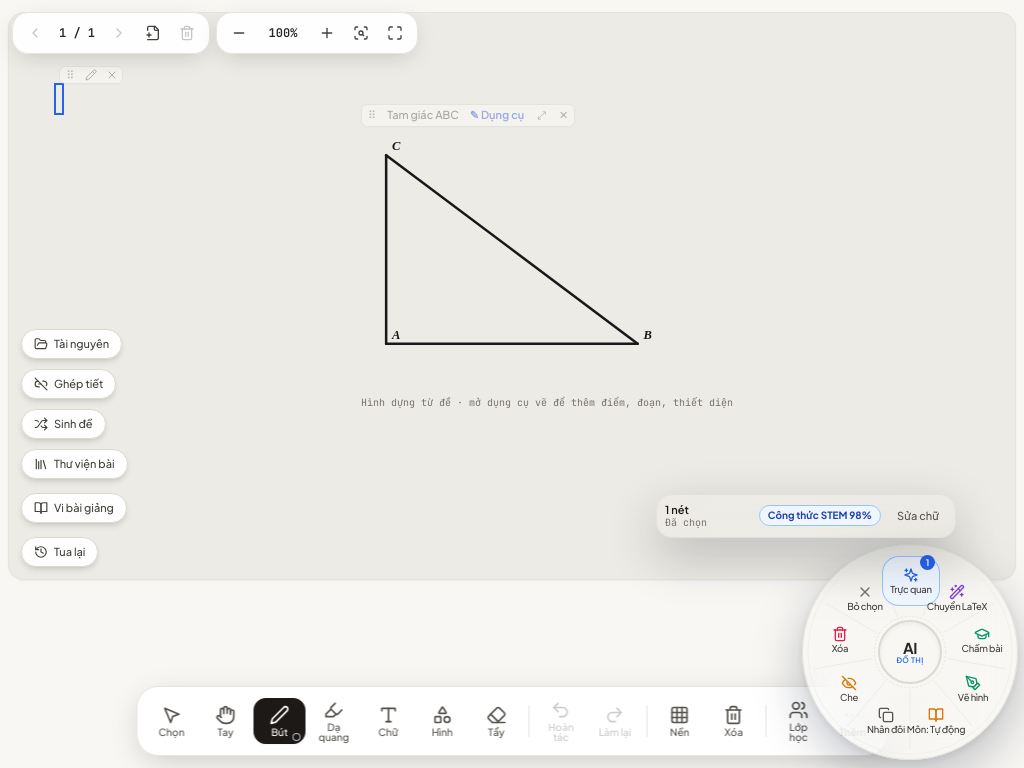
viết yêu cầu lên bảng, khoanh, bấm Vẽ hình: thêm vào hình đang có › chữ không hiểu thì báo và không đổi hình
This screenshot has width=1024, height=768.
Click the button with test id "ai-fab-draw".
click(973, 689)  # box [945,665,1001,713]
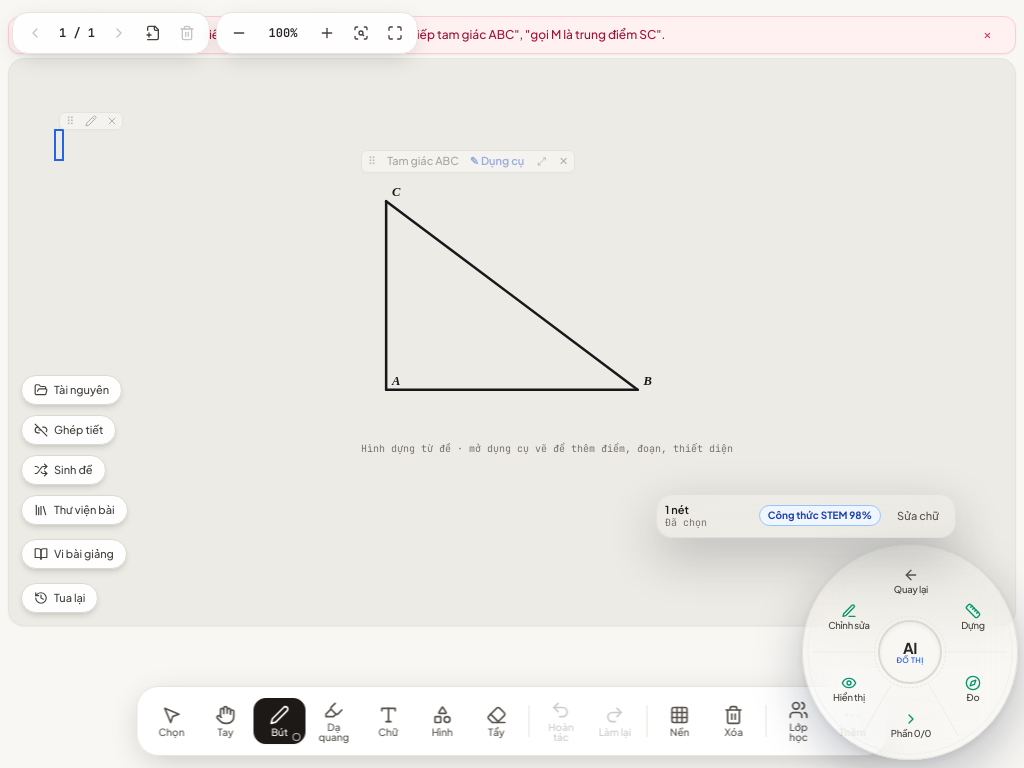
Expected: the element with test id "error-toast" is shown, [8,16,1016,54]
